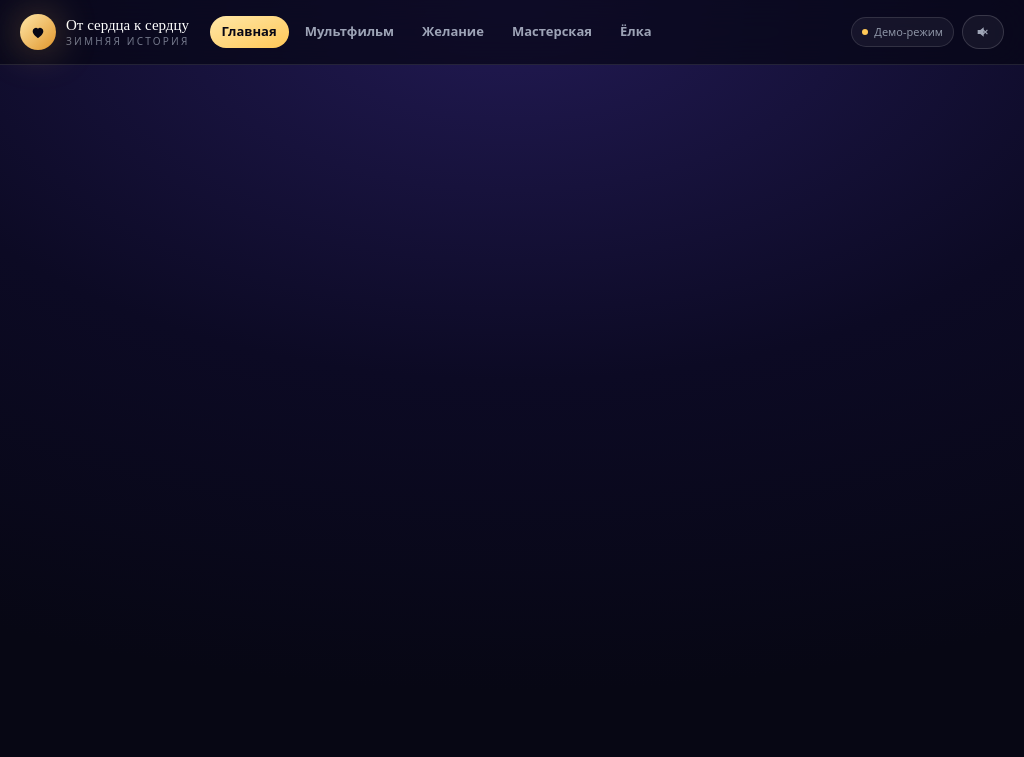
Scenario: путешествие по сайту › игрушка с ёлки открывает пожелание в модалке
Click the button "Ёлка" at {"x": 636, "y": 32}, box x1=608 y1=16 x2=664 y2=48
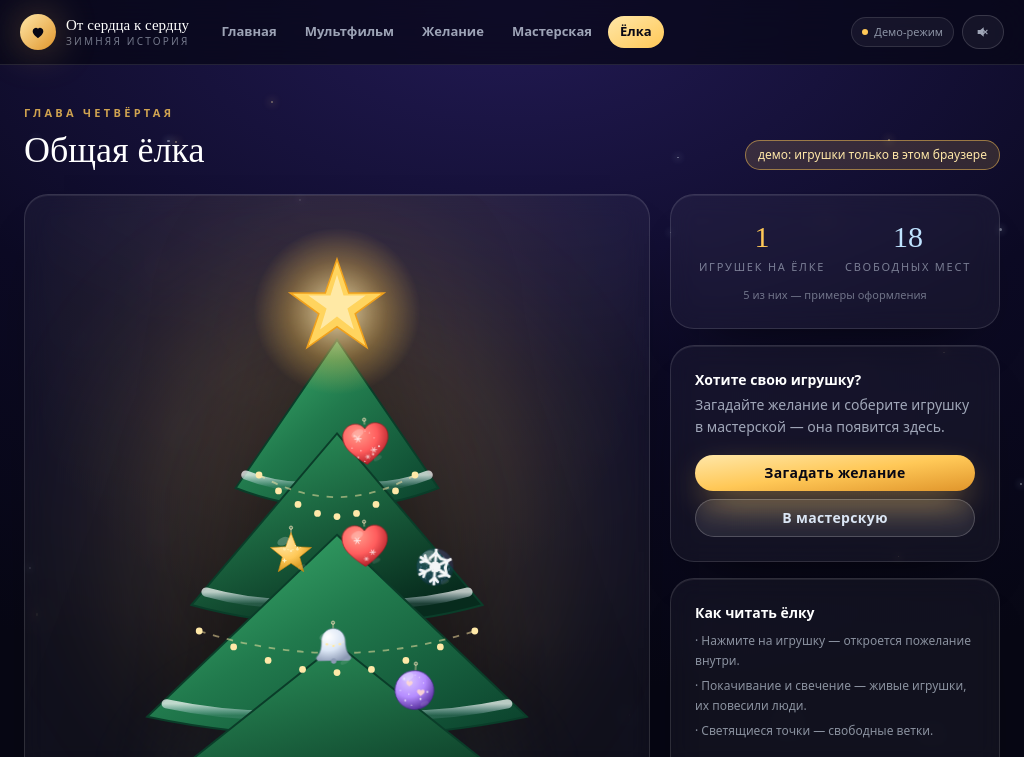
Click the button named "Игрушка: Маме" at {"x": 364, "y": 546}, box x1=337 y1=519 x2=391 y2=573
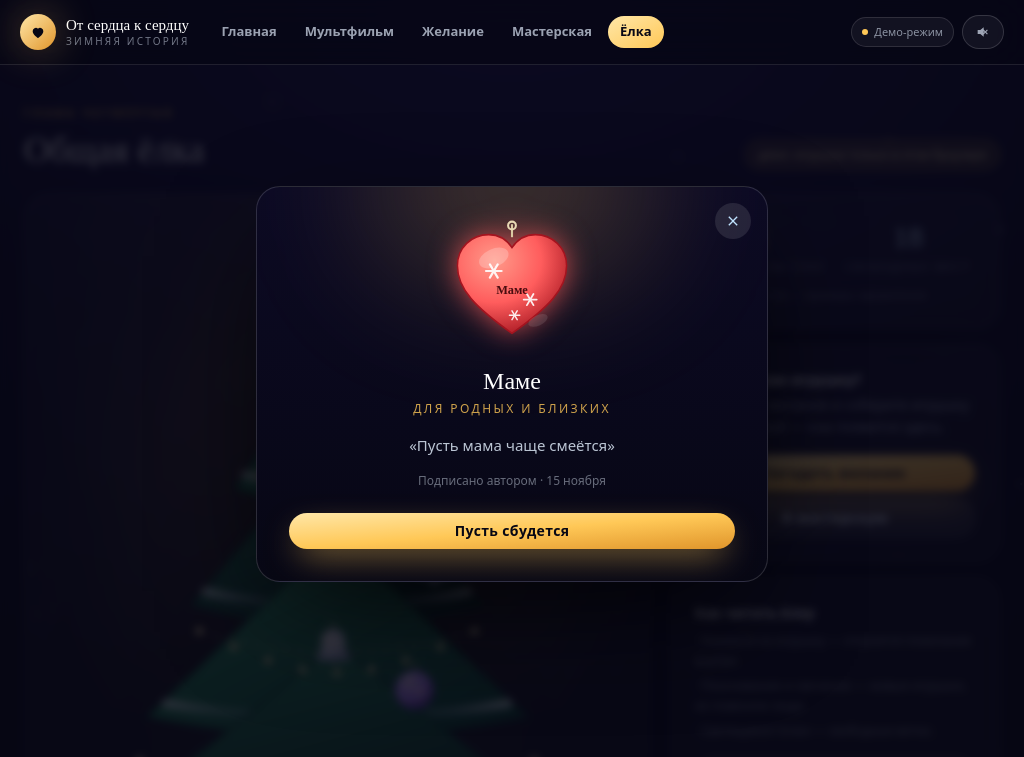
Check: the text "«Пусть мама чаще смеётся»" is shown, box x1=409 y1=433 x2=615 y2=457
